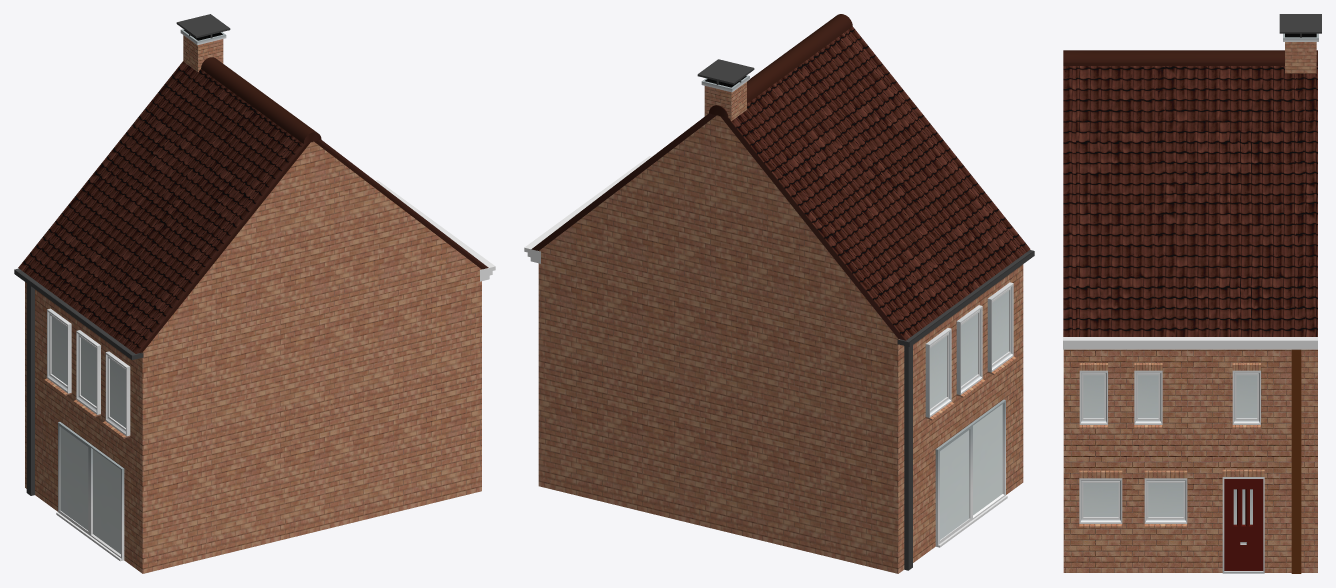
Rendered from It_Bynt_22.fbx.
3 renders of one model, left to right at view 1: azimuth 30°, elevation 25°; view 2: azimuth 150°, elevation 25°; view 3: azimuth 270°, elevation 25°, orthographic. The views are drawn at different scales.
Parts seen in each view (by area): view 1: It_Bynt_22; view 2: It_Bynt_22; view 3: It_Bynt_22.
Boxes of the visible parts, x1,y1,x2,y2 form: It_Bynt_22: [14, 14, 495, 573]; It_Bynt_22: [524, 14, 1034, 573]; It_Bynt_22: [1063, 14, 1321, 573].
Size of the model in its own units: 1016 by 1140 by 580.
